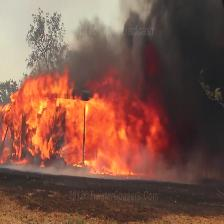fire: (0, 71, 182, 192)
smoke: (41, 1, 224, 93), (172, 1, 224, 201)
